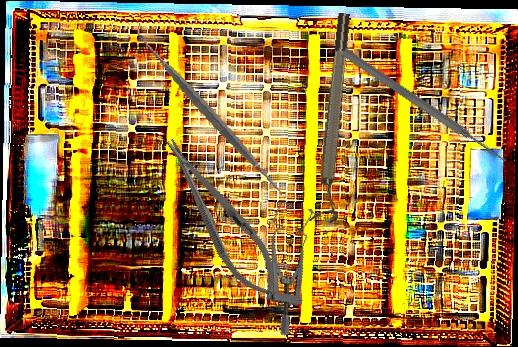Fixation Ring: (309, 12, 363, 224)
Needle Holder: (151, 127, 292, 310)
Pusher: (340, 46, 509, 167)
Spatula Surgical: (116, 23, 304, 204)
Speculum: (237, 197, 334, 338)
